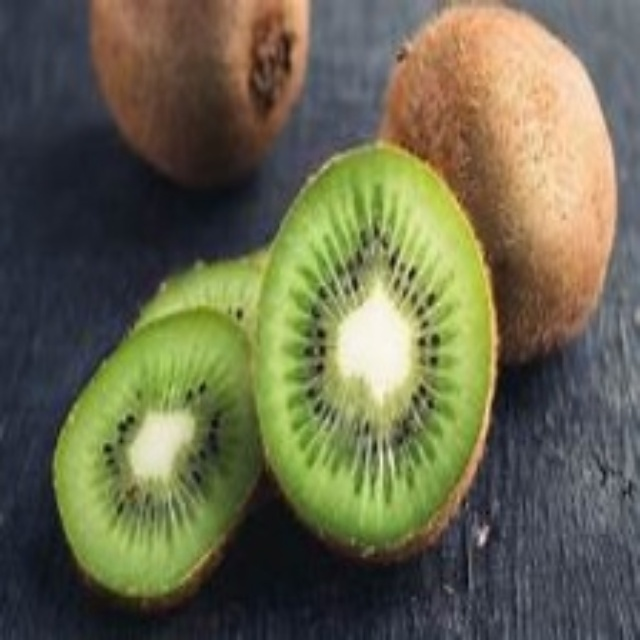kiwi: (264, 156, 501, 554), (390, 13, 613, 362), (52, 254, 259, 598), (85, 3, 296, 190)
